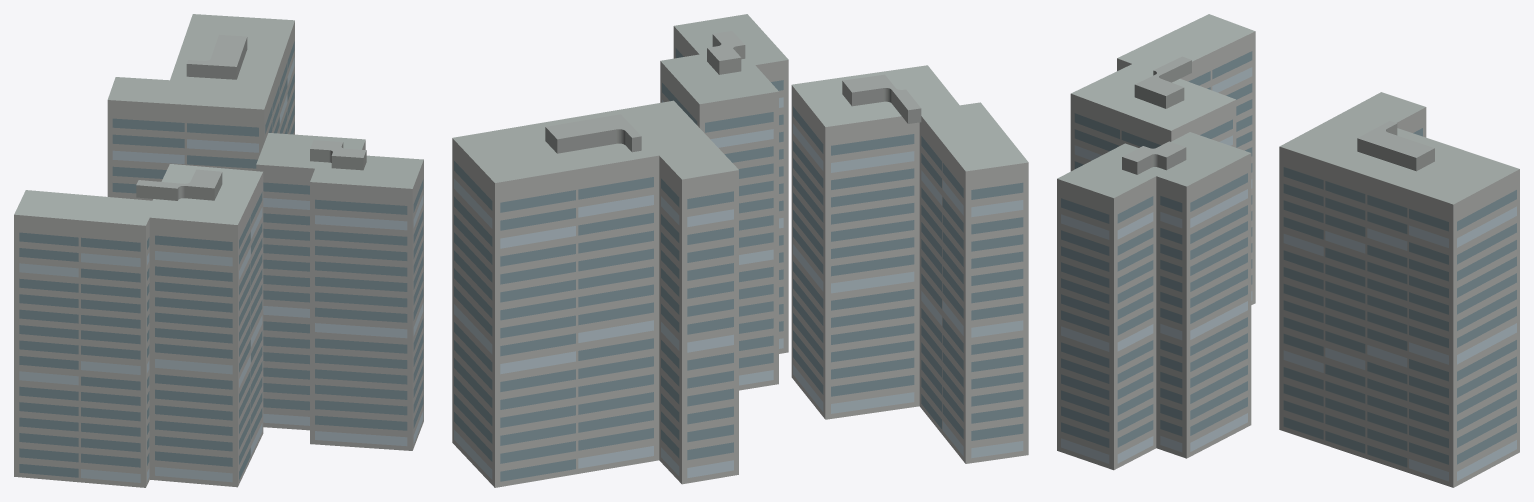
The model's file is apt-a12009201.glb.
The picture shows the model from 3 angles, left to right: view 1: azimuth 30°, elevation 25°; view 2: azimuth 150°, elevation 25°; view 3: azimuth 270°, elevation 25°; orthographic projection. The views are drawn at different scales.
Parts seen in each view (by area): view 1: apt-a12009201; view 2: apt-a12009201; view 3: apt-a12009201.
Boxes of the visible parts, x1,y1,x2,y2 form: apt-a12009201: [14, 14, 423, 487]; apt-a12009201: [452, 14, 1028, 487]; apt-a12009201: [1057, 14, 1519, 487].
Size of the model in its own units: 72.97 by 50 by 70.7.
